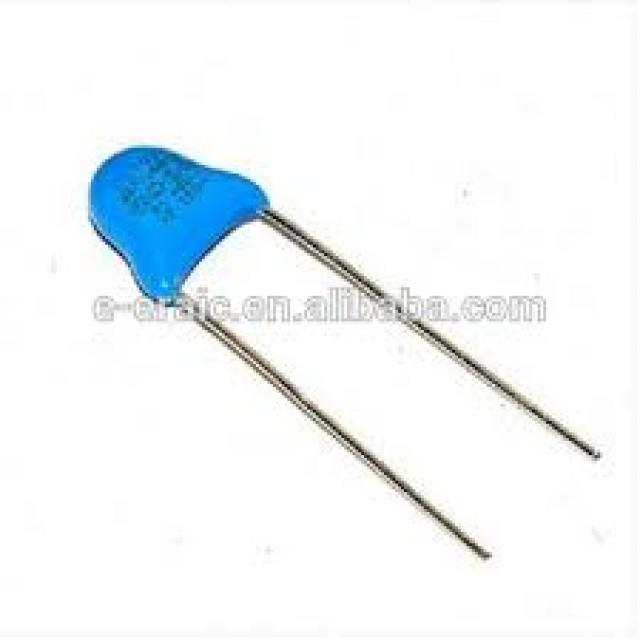Capacitor: (88, 148, 600, 560)
